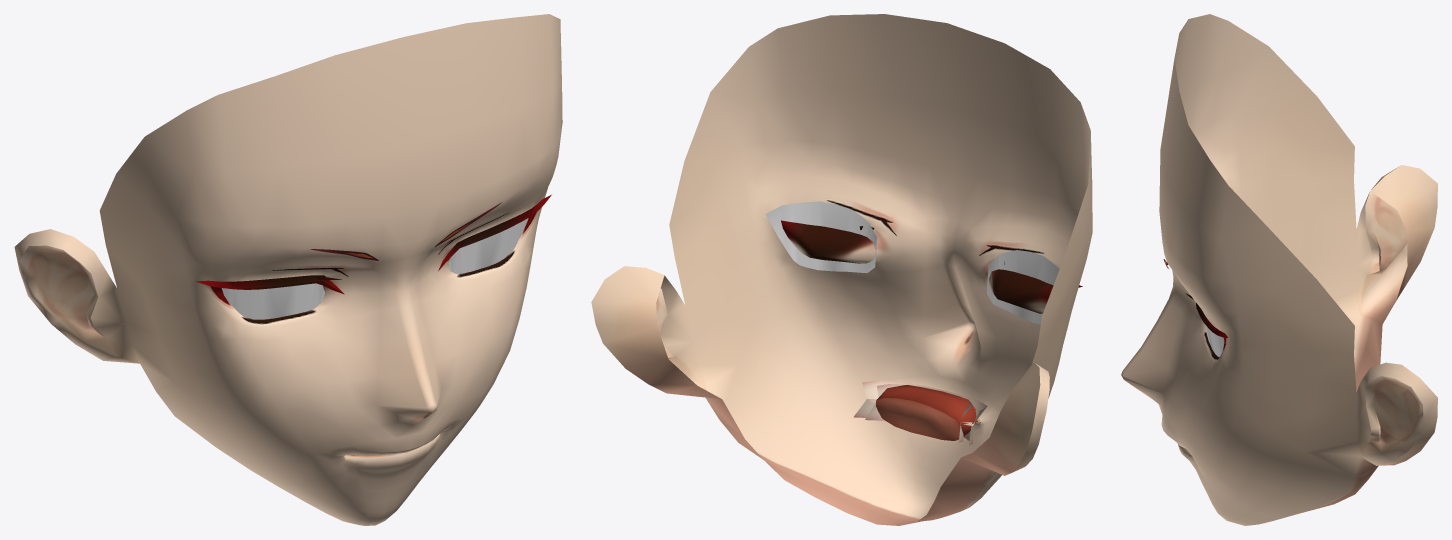
File: Leo.fbx
The picture shows the model from 3 angles, left to right: view 1: azimuth 30°, elevation 25°; view 2: azimuth 150°, elevation 25°; view 3: azimuth 270°, elevation 25°; orthographic projection. The views are drawn at different scales.
Parts seen in each view (by area): view 1: M_Head, M_Eye_B_Def, M_Mth_B_Def, M_PupALL_R_A_Def, M_PupALL_L_A_Def; view 2: M_Head, M_Eye_B_Def, M_Mth_B_Def, M_PupALL_L_A_Def, M_PupALL_R_A_Def; view 3: M_Head, M_Eye_B_Def, M_Mth_B_Def.
Part boxes in pixels (x1,y1,x2,y2): M_Head: [14, 14, 562, 396]; M_Eye_B_Def: [149, 128, 561, 413]; M_Mth_B_Def: [140, 351, 509, 525]; M_PupALL_R_A_Def: [221, 283, 324, 319]; M_PupALL_L_A_Def: [448, 218, 528, 273]; M_Head: [591, 14, 1092, 475]; M_Eye_B_Def: [714, 140, 1092, 398]; M_Mth_B_Def: [706, 327, 1023, 525]; M_PupALL_L_A_Def: [765, 201, 877, 273]; M_PupALL_R_A_Def: [986, 250, 1059, 324]; M_Head: [1159, 14, 1437, 465]; M_Eye_B_Def: [1121, 115, 1274, 448]; M_Mth_B_Def: [1124, 314, 1382, 525].
Size of the model in its own units: 0.1778 by 0.1771 by 0.1098.
Materials: 5 (3 with a texture image).
